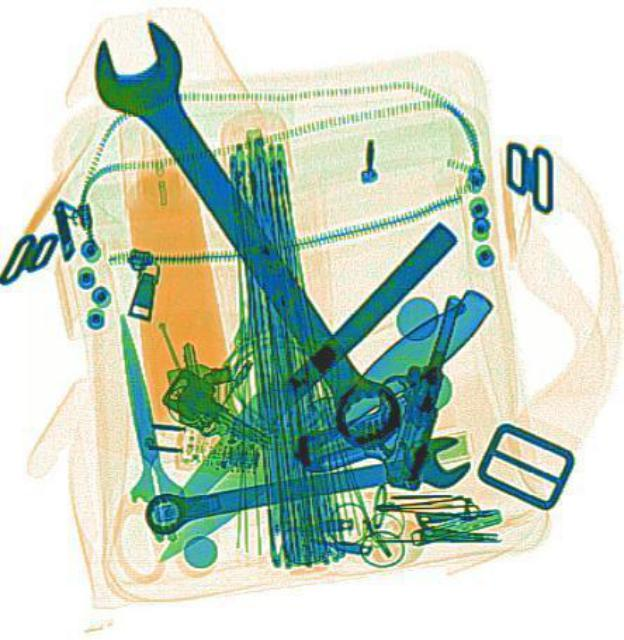Gun: (287, 271, 461, 491)
Knife: (142, 277, 502, 573), (147, 216, 458, 528), (95, 308, 182, 508)
Wrench: (69, 7, 423, 461), (137, 430, 473, 546)
